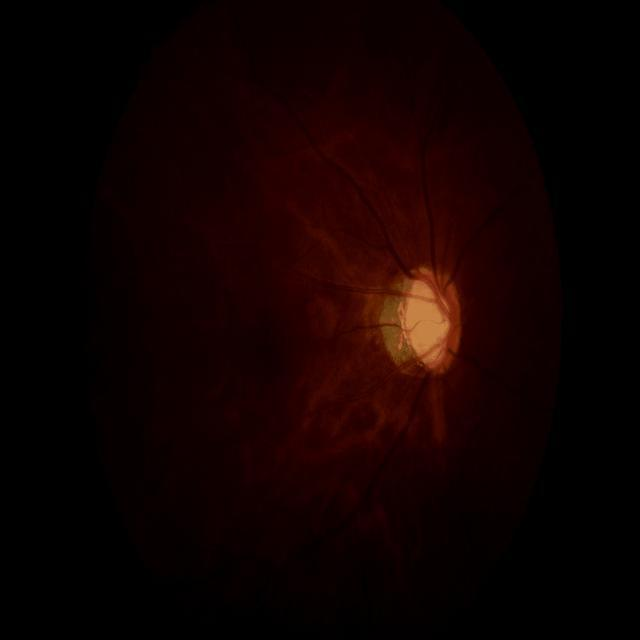cup: (410, 282, 450, 369)
disk: (401, 265, 463, 377)
